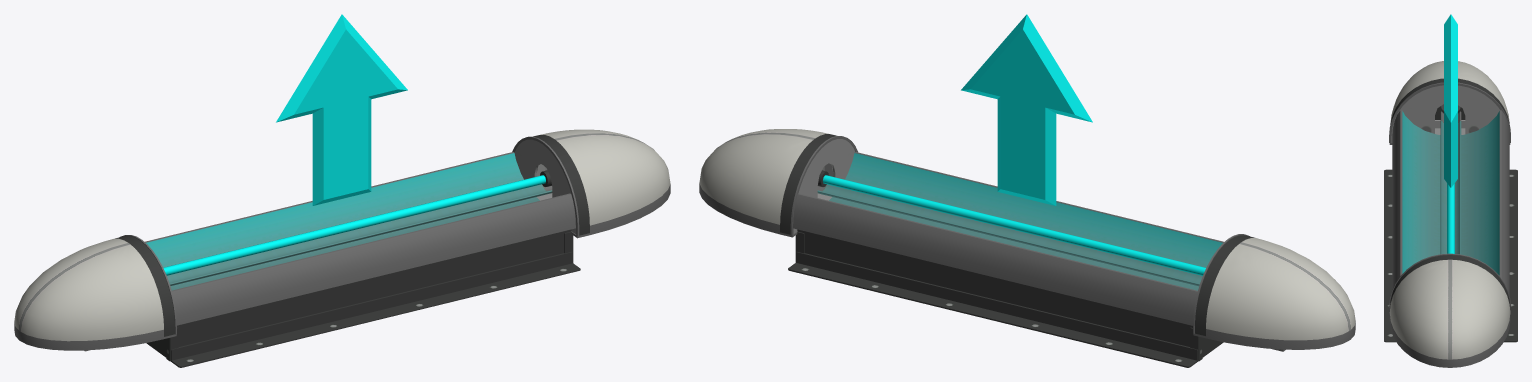
Rendered from bridge_emitter.obj.
The picture shows the model from 3 angles, left to right: view 1: azimuth 30°, elevation 25°; view 2: azimuth 150°, elevation 25°; view 3: azimuth 270°, elevation 25°; orthographic projection. The views are drawn at different scales.
Visible parts, largest first — view 1: hard_light_emitter_model, Plane; view 2: hard_light_emitter_model, Plane; view 3: hard_light_emitter_model, Plane.
Boxes of the visible parts, x1=… form: hard_light_emitter_model: x1=14, y1=129, x2=670, y2=367; Plane: x1=276, y1=14, x2=407, y2=205; hard_light_emitter_model: x1=699, y1=129, x2=1355, y2=367; Plane: x1=961, y1=14, x2=1092, y2=205; hard_light_emitter_model: x1=1384, y1=61, x2=1517, y2=367; Plane: x1=1444, y1=14, x2=1457, y2=187.
Bounding box in the file's own units: 0.9135 × 0.375 × 0.1875.
Materials: 1 (1 with a texture image).
